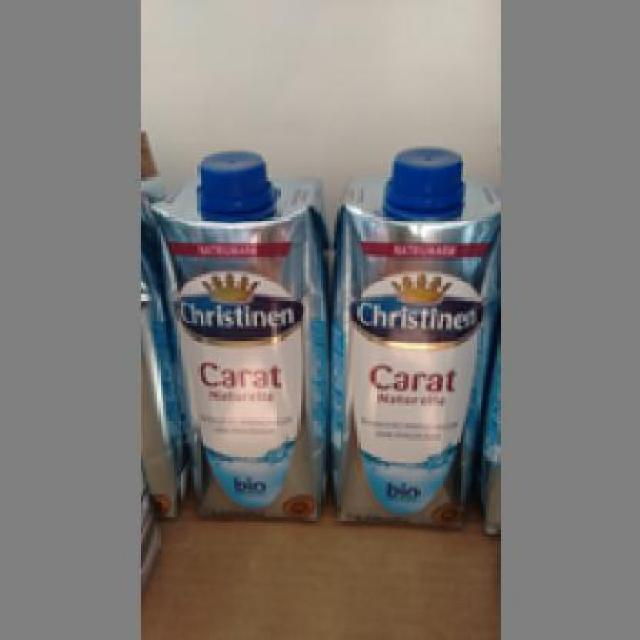Water: (146, 146, 323, 523), (320, 146, 494, 523)
